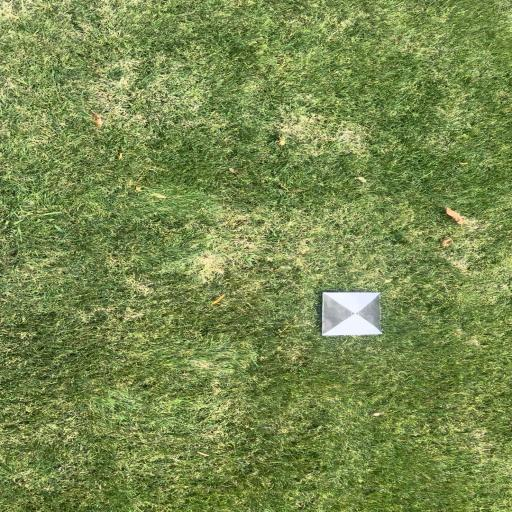target: (323, 293, 381, 334)
